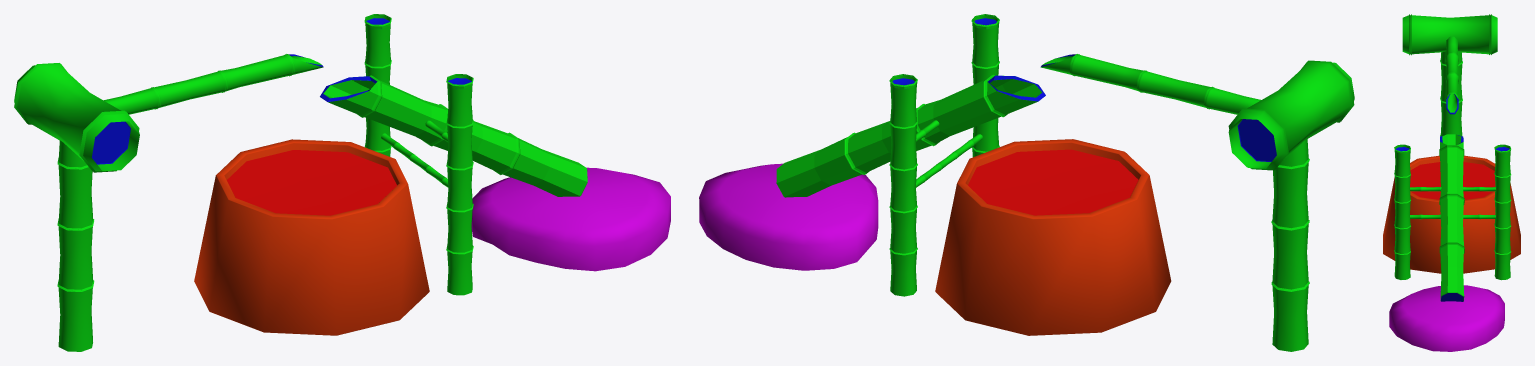
Rendered from shishi low 2.FBX.
The picture shows the model from 3 angles, left to right: view 1: azimuth 30°, elevation 25°; view 2: azimuth 150°, elevation 25°; view 3: azimuth 270°, elevation 25°; orthographic projection. The views are drawn at different scales.
Parts seen in each view (by area): view 1: Shishi_Odoshi_low, RotateyBit; view 2: Shishi_Odoshi_low, RotateyBit; view 3: Shishi_Odoshi_low, RotateyBit.
Boxes of the visible parts, x1,y1,x2,y2 form: Shishi_Odoshi_low: (14, 14, 670, 351); RotateyBit: (320, 75, 587, 196); Shishi_Odoshi_low: (699, 14, 1354, 351); RotateyBit: (776, 74, 1045, 197); Shishi_Odoshi_low: (1383, 14, 1520, 351); RotateyBit: (1439, 134, 1464, 301).
Bounding box in the file's own units: 354 × 146 × 113.
